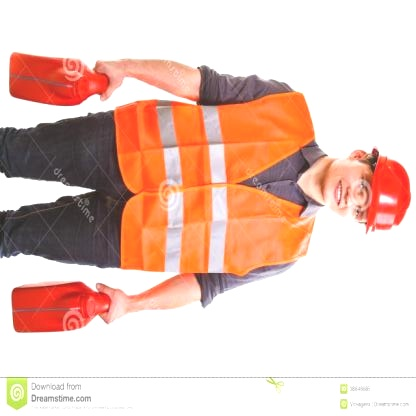red: (358, 142, 416, 240)
vest: (113, 79, 318, 278)
